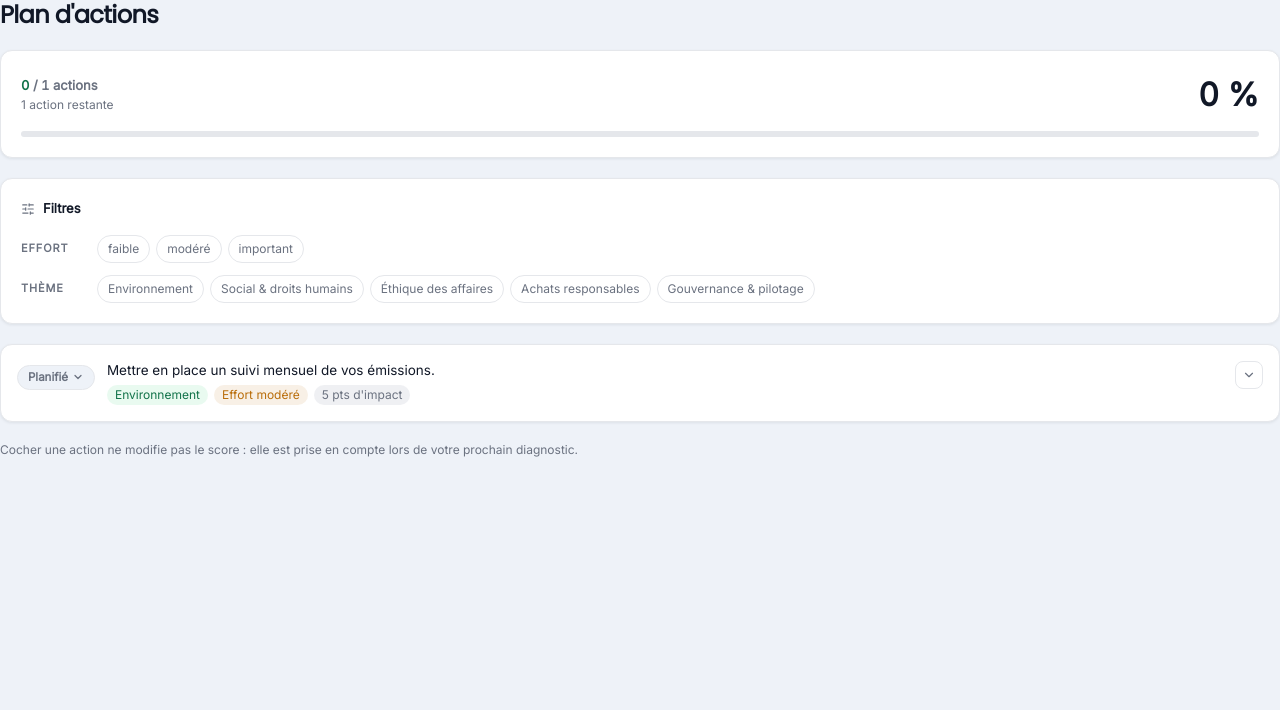
PlanActionsPage › changer le statut n’envoie ni n’efface la saisie non enregistrée du formulaire
Step 1. Click the button named "Modifier les détails" → click(1249, 374), box left=1235, top=360, right=1263, bottom=388
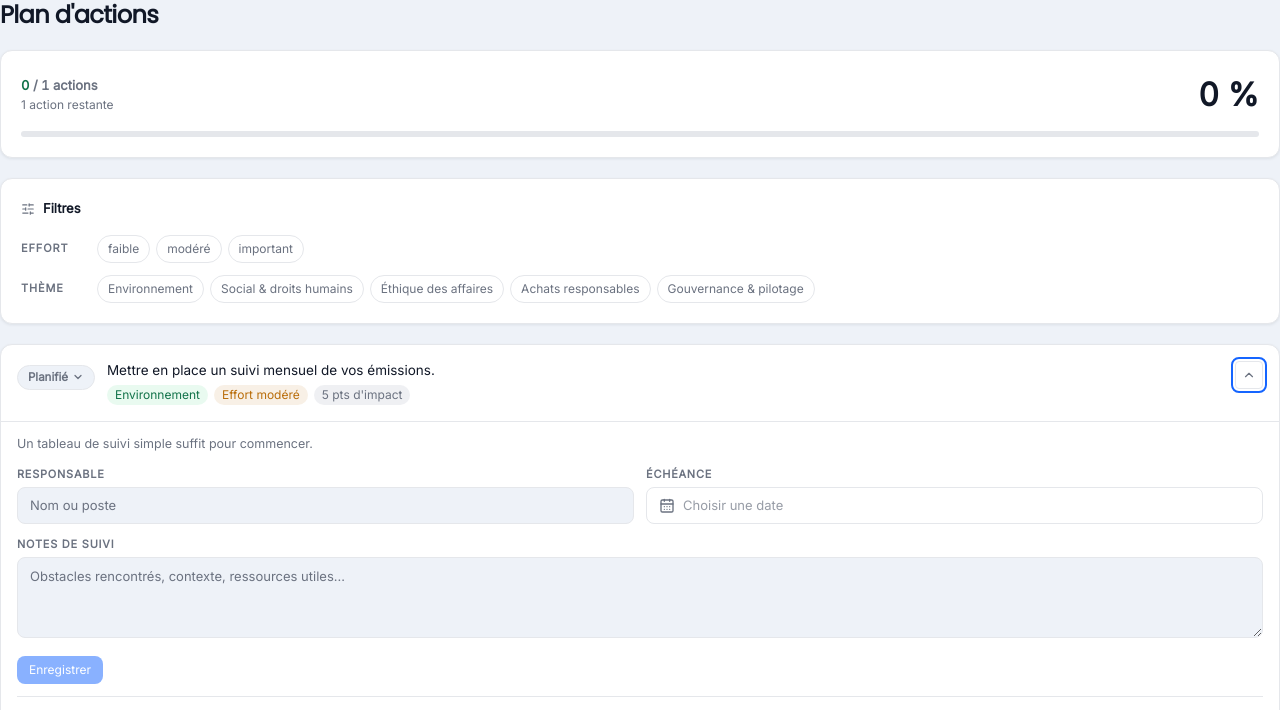
Step 2. Type "Claire" into the field labelled "Responsable" → (326, 506), box left=17, top=487, right=634, bottom=524
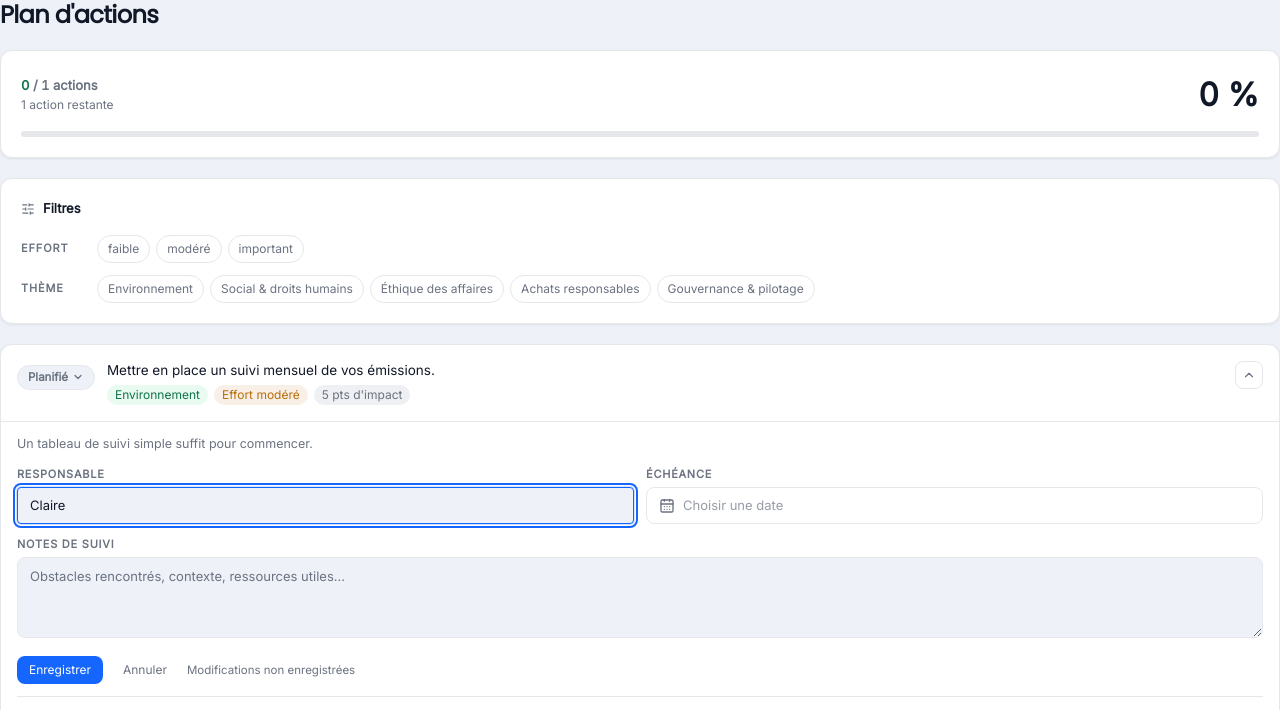
Step 3. Click the button with aria-label "Statut : Planifié" → click(56, 377), box left=17, top=364, right=95, bottom=390
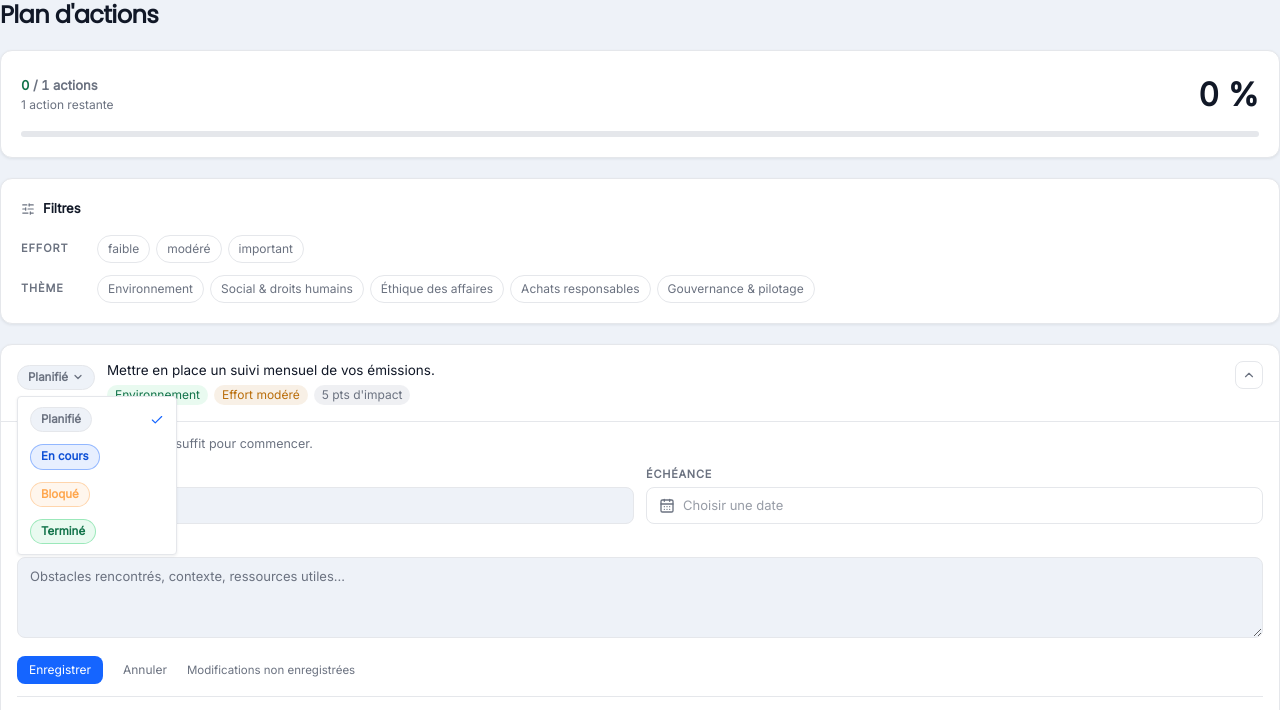
Step 4. Click the menu item "En cours" → click(65, 457), box left=30, top=444, right=100, bottom=470
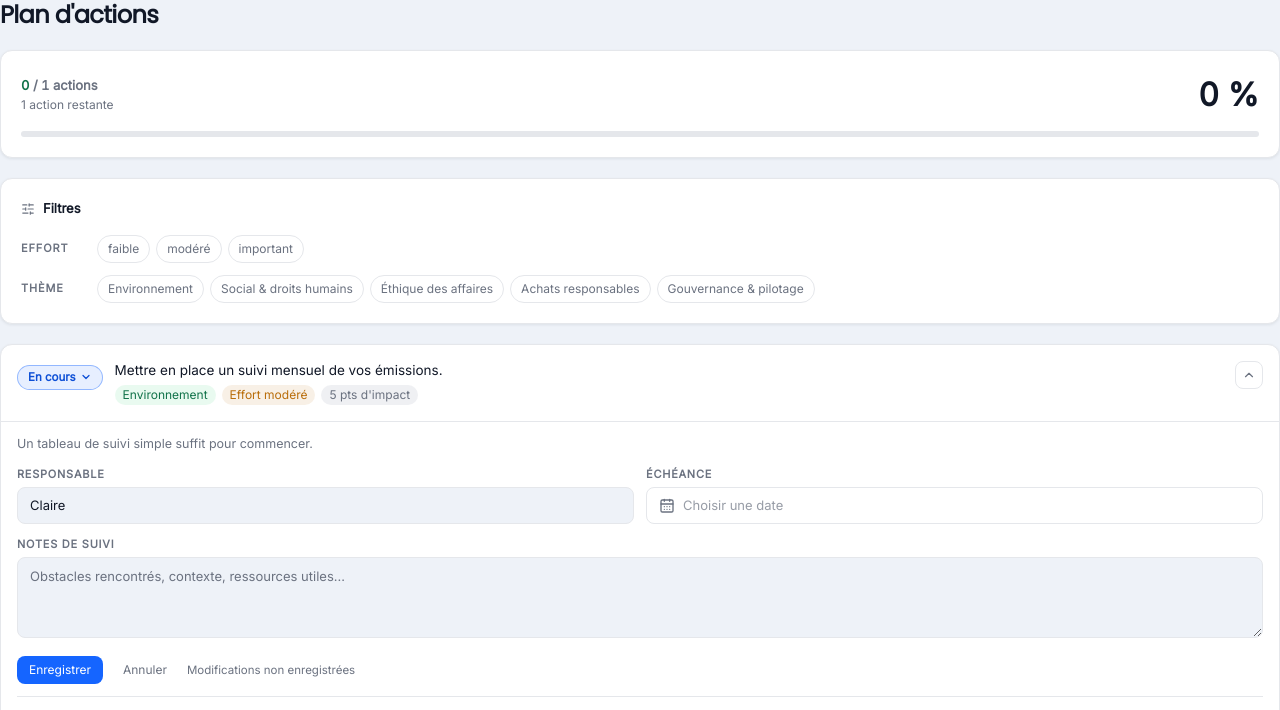
Result: the text "Modifications non enregistrées" is shown at left=187, top=662, right=355, bottom=679
Result: the button with aria-label "Statut : En cours" is shown at left=17, top=364, right=103, bottom=390
